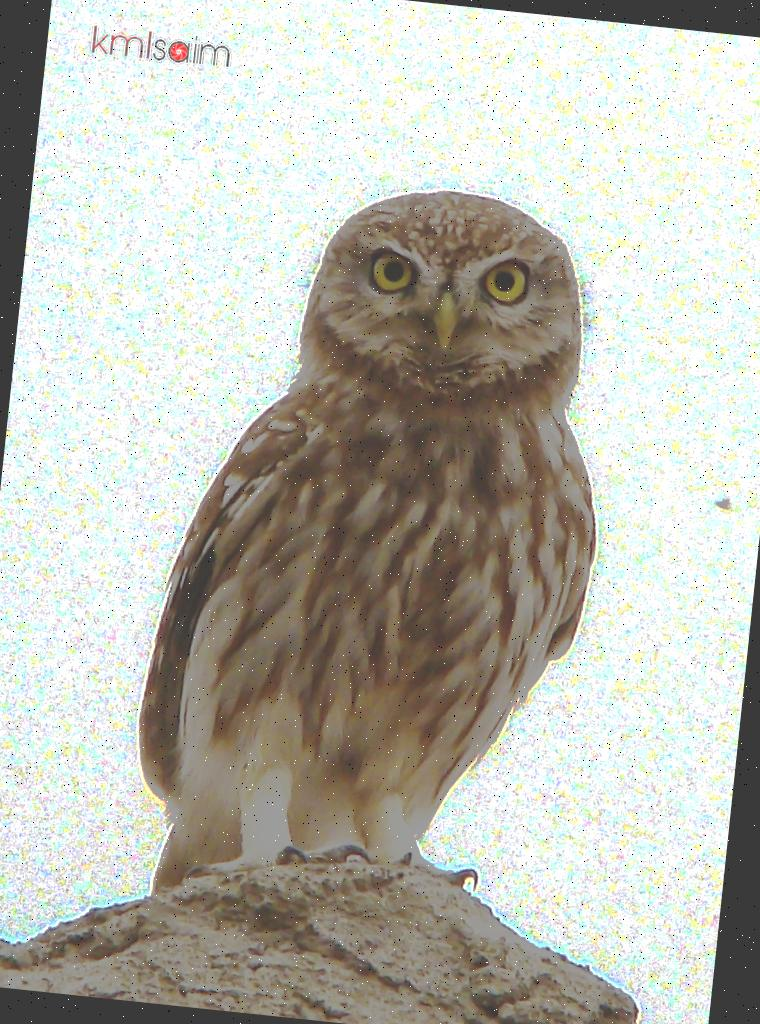Owl: (122, 162, 637, 951)
